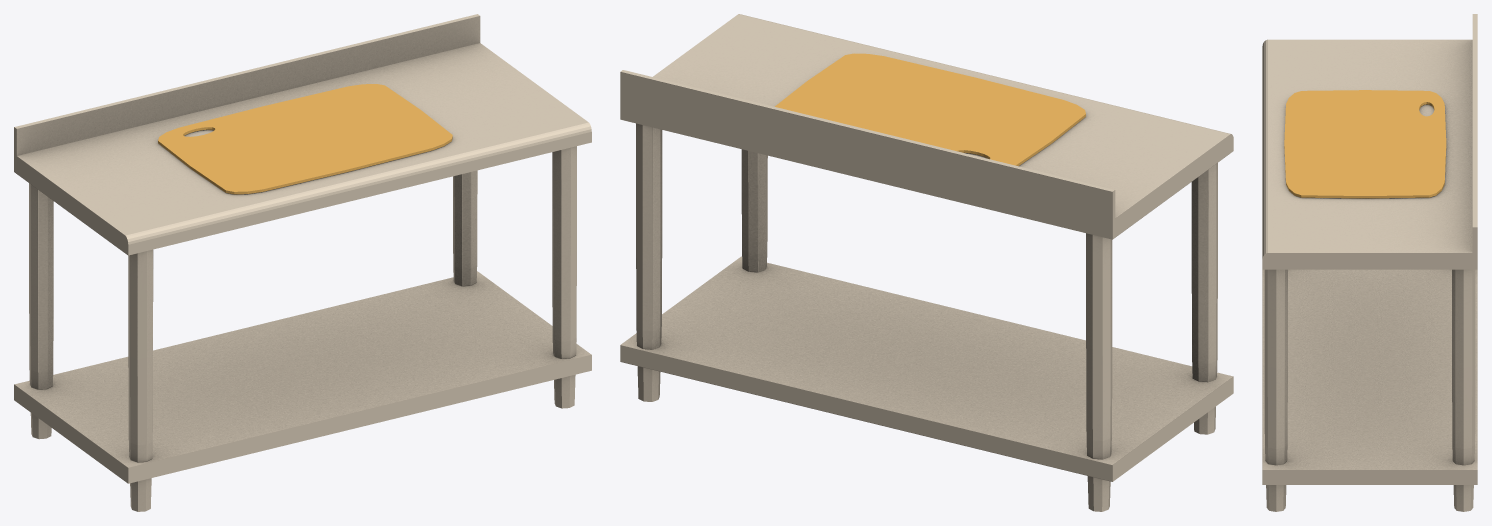
The model's file is table.glb.
The picture shows the model from 3 angles, left to right: view 1: azimuth 30°, elevation 25°; view 2: azimuth 150°, elevation 25°; view 3: azimuth 270°, elevation 25°; orthographic projection. The views are drawn at different scales.
Visible parts, largest first — view 1: Prop_KitchenTable_01, Prop_CuttingPlate; view 2: Prop_KitchenTable_01, Prop_CuttingPlate; view 3: Prop_KitchenTable_01, Prop_CuttingPlate.
Boxes of the visible parts, <box> form: Prop_KitchenTable_01: <box>14,14,591,511</box>; Prop_CuttingPlate: <box>158,84,452,194</box>; Prop_KitchenTable_01: <box>620,14,1233,511</box>; Prop_CuttingPlate: <box>775,53,1085,166</box>; Prop_KitchenTable_01: <box>1262,14,1477,511</box>; Prop_CuttingPlate: <box>1284,90,1446,198</box>.
Bounding box in the file's own units: 1.8 × 1.14 × 0.767.
Materials: 2 (1 with a texture image).
